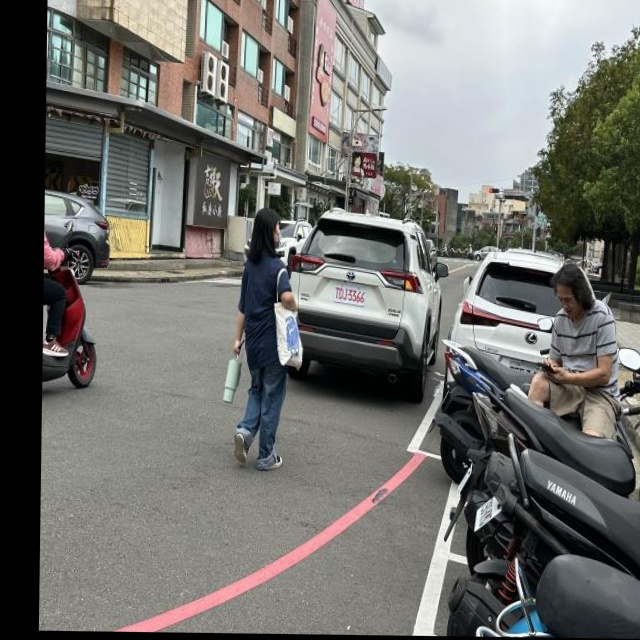Sin_Casco_Mascarrilla: (553, 266, 592, 319), (253, 207, 283, 253)
Sin_Chaleco: (244, 257, 288, 354)
